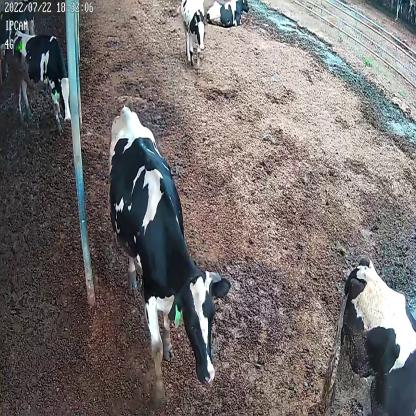cow: (108, 105, 231, 407), (12, 27, 73, 136), (182, 0, 206, 76), (204, 0, 250, 28)
